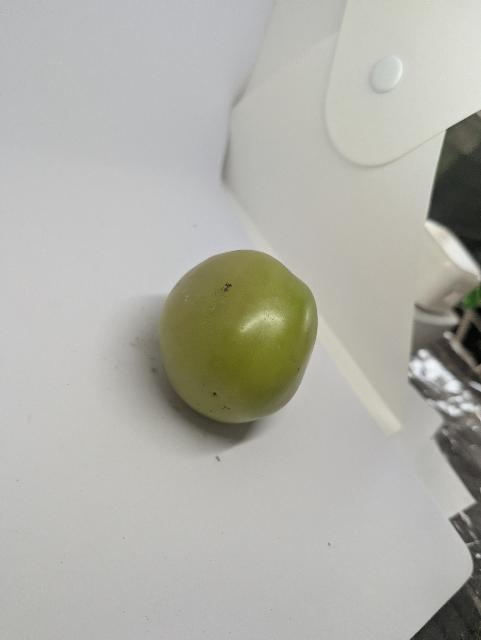green: (149, 238, 327, 431)
